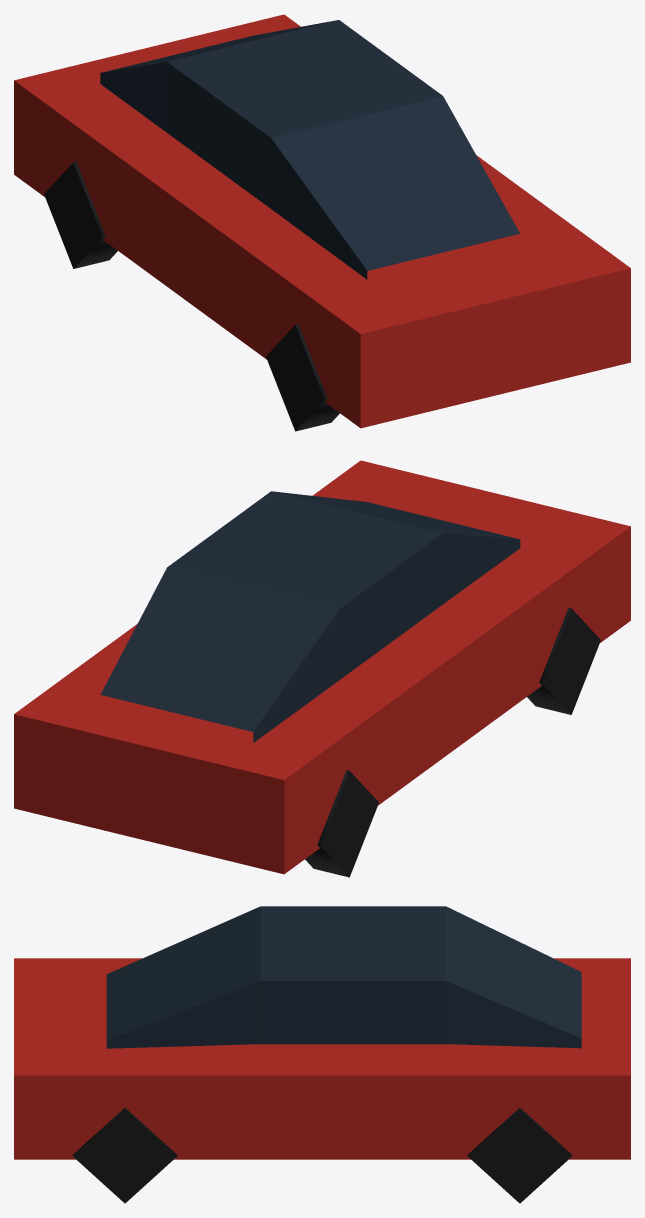
File: veh_ground_car_a07_lod2.glb
The picture shows the model from 3 angles, top to bottom: view 1: azimuth 30°, elevation 25°; view 2: azimuth 150°, elevation 25°; view 3: azimuth 270°, elevation 25°; orthographic projection. The views are drawn at different scales.
Parts seen in each view (by area): view 1: body, wheel_2, wheel_0; view 2: body, wheel_0, wheel_2; view 3: body, wheel_1, wheel_3.
Part boxes in pixels (box(x1,y1,x2,y2)): body: box(14, 14, 630, 428); wheel_2: box(266, 324, 339, 431); wheel_0: box(44, 161, 117, 268); body: box(14, 460, 630, 874); wheel_0: box(305, 770, 378, 877); wheel_2: box(527, 607, 600, 714); body: box(14, 906, 630, 1159); wheel_1: box(467, 1107, 572, 1203); wheel_3: box(72, 1107, 177, 1203).
Bounding box in the file's own units: 1.84 × 1.43 × 4.
